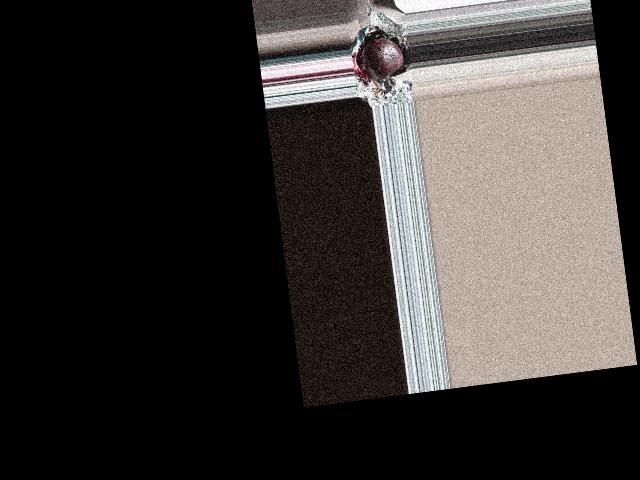beet: (361, 35, 405, 82)
